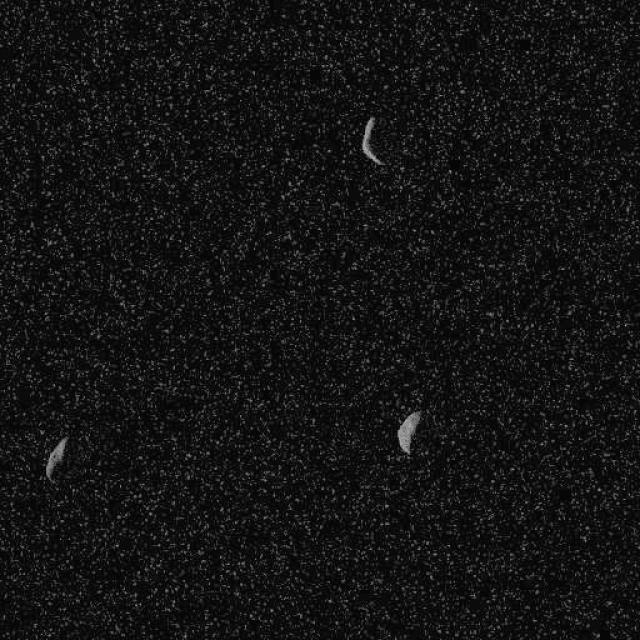D2: (360, 114, 386, 166), (395, 409, 423, 455), (44, 434, 68, 484)
